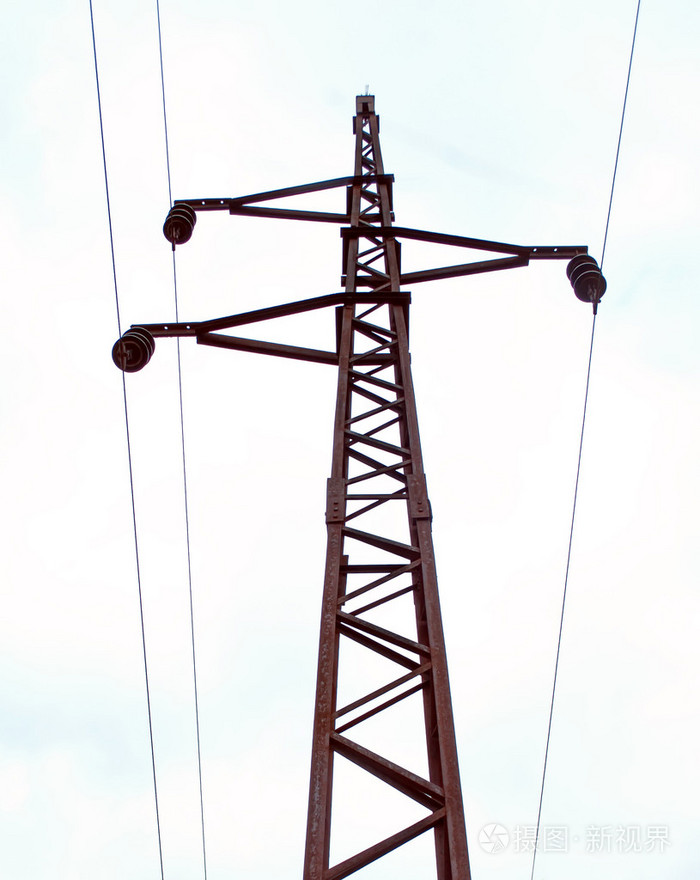insulator: (111, 322, 155, 374), (563, 254, 605, 306), (162, 204, 198, 246)
